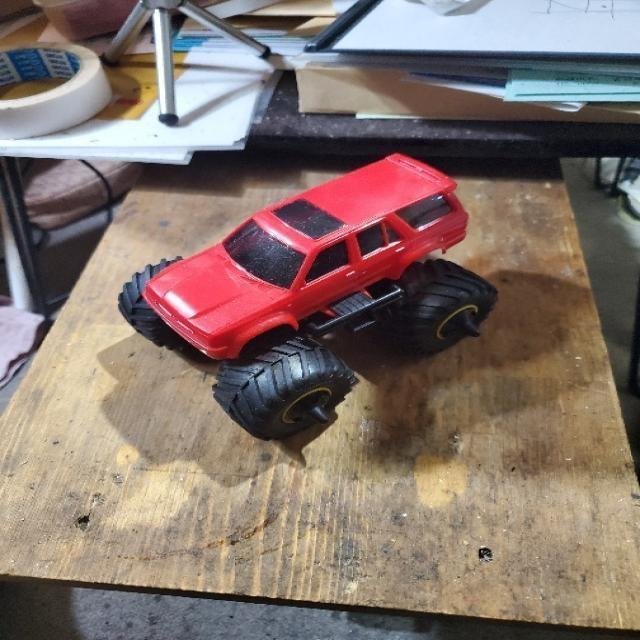Car: (100, 121, 528, 469)
